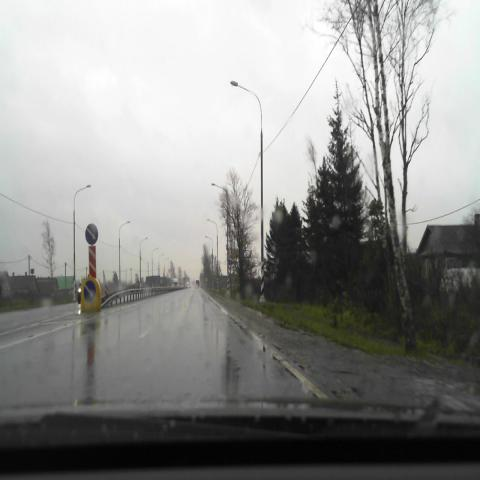4_2_1: (85, 223, 98, 245), (84, 281, 96, 304)
